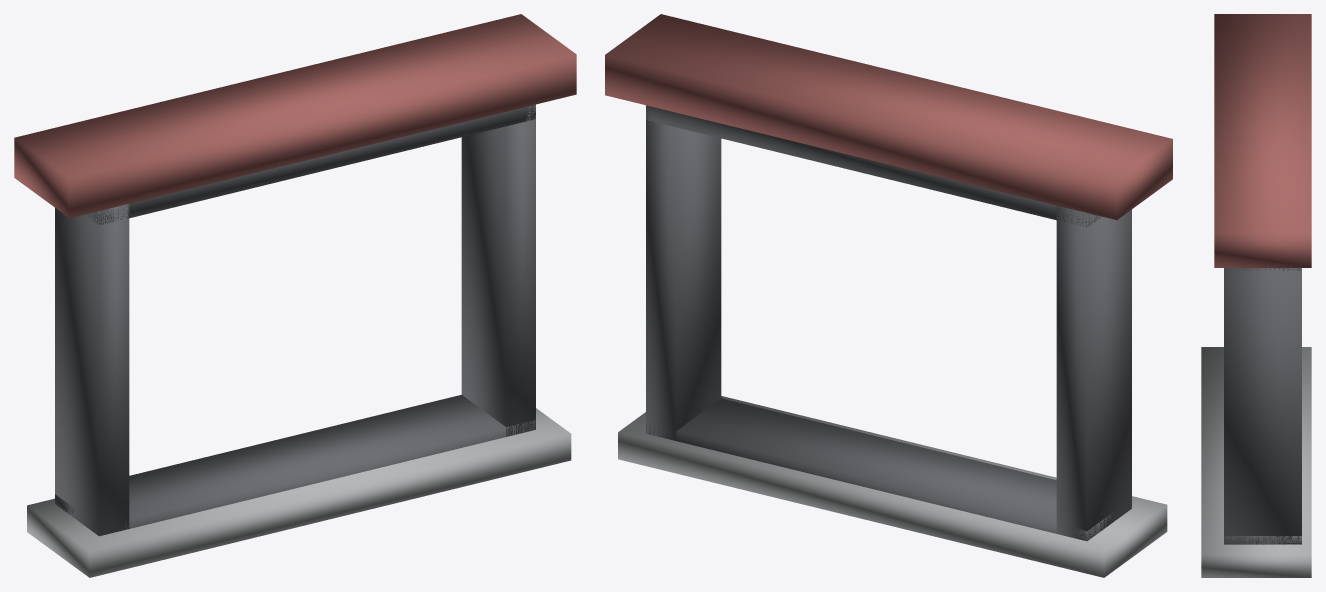
Rendered from egress_window_brick_w118_h90_s88_d24.glb.
3 views of the same model, side by side, from view 1: azimuth 30°, elevation 25°; view 2: azimuth 150°, elevation 25°; view 3: azimuth 270°, elevation 25° (orthographic). The views are drawn at different scales.
Parts seen in each view (by area): view 1: world; view 2: world; view 3: world.
Boxes of the visible parts, bbox=[...] form: world: bbox=[14, 14, 576, 577]; world: bbox=[605, 14, 1172, 577]; world: bbox=[1201, 14, 1311, 577].
Size of the model in its own units: 1.59 by 1.19 by 0.34.
